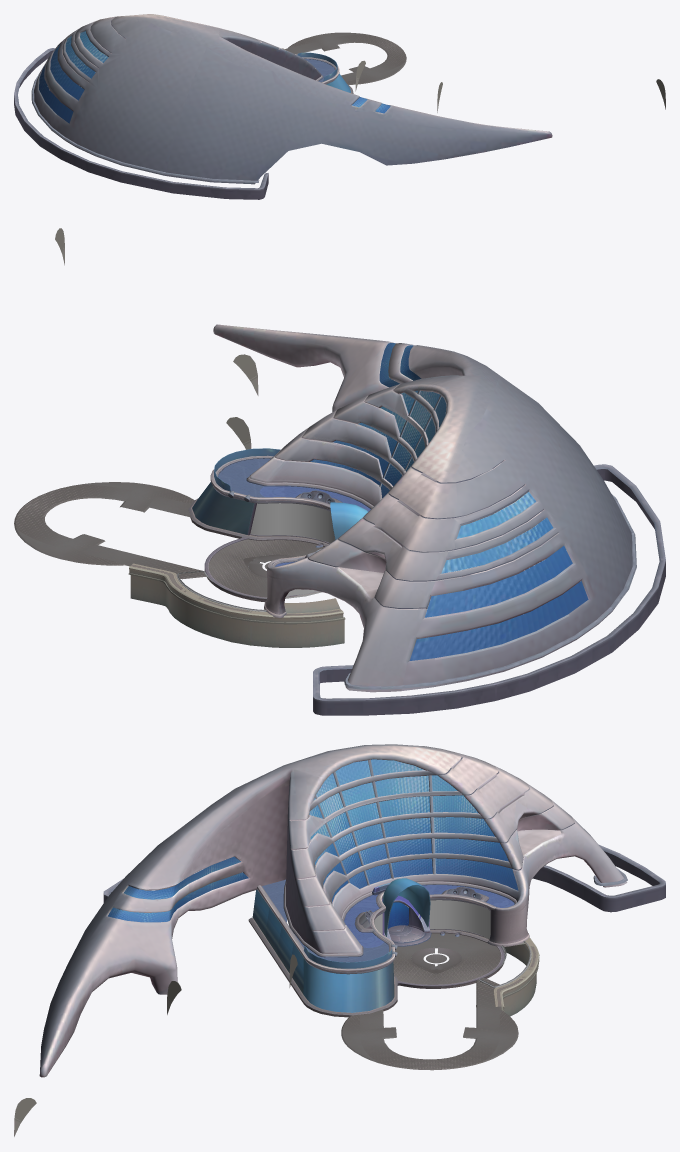
Rendered from pref_sm_beach_bk_pointmol_rightbuild01_lv0.fbx.
3 renders of one model, top to bottom at view 1: azimuth 30°, elevation 25°; view 2: azimuth 150°, elevation 25°; view 3: azimuth 270°, elevation 25°, orthographic. The views are drawn at different scales.
Visible parts, largest first — view 1: sm_beach_bk_pointmol_rightbuild01a_lv0, sm_beach_bk_pointmol_rightbuild01d_lv0, sm_beach_bk_pointmol_rightbuild01b_lv0; view 2: sm_beach_bk_pointmol_rightbuild01a_lv0, sm_beach_bk_pointmol_rightbuild01b_lv0, sm_beach_bk_pointmol_rightbuild01d_lv0, sm_beach_bk_pointmol_rightbuild01h_lv0, sm_beach_bk_pointmol_rightbuild01g_lv0, sm_beach_bk_pointmol_rightbuild01c_lv0; view 3: sm_beach_bk_pointmol_rightbuild01a_lv0, sm_beach_bk_pointmol_rightbuild01b_lv0, sm_beach_bk_pointmol_rightbuild01d_lv0, sm_beach_bk_pointmol_rightbuild01c_lv0, sm_beach_bk_pointmol_rightbuild01h_lv0, sm_beach_bk_pointmol_rightbuild01g_lv0, sm_beach_bk_pointmol_rightbuild01e_lv0.
Part boxes in pixels (x1=…): sm_beach_bk_pointmol_rightbuild01a_lv0: x1=14, y1=14, x2=552, y2=199; sm_beach_bk_pointmol_rightbuild01d_lv0: x1=285, y1=32, x2=665, y2=112; sm_beach_bk_pointmol_rightbuild01b_lv0: x1=39, y1=31, x2=390, y2=123; sm_beach_bk_pointmol_rightbuild01a_lv0: x1=188, y1=324, x2=665, y2=715; sm_beach_bk_pointmol_rightbuild01b_lv0: x1=214, y1=343, x2=588, y2=660; sm_beach_bk_pointmol_rightbuild01d_lv0: x1=14, y1=228, x2=324, y2=597; sm_beach_bk_pointmol_rightbuild01h_lv0: x1=128, y1=563, x2=345, y2=647; sm_beach_bk_pointmol_rightbuild01g_lv0: x1=250, y1=503, x2=335, y2=598; sm_beach_bk_pointmol_rightbuild01c_lv0: x1=192, y1=482, x2=254, y2=534; sm_beach_bk_pointmol_rightbuild01a_lv0: x1=39, y1=744, x2=665, y2=1077; sm_beach_bk_pointmol_rightbuild01b_lv0: x1=108, y1=759, x2=518, y2=968; sm_beach_bk_pointmol_rightbuild01d_lv0: x1=14, y1=933, x2=518, y2=1136; sm_beach_bk_pointmol_rightbuild01c_lv0: x1=252, y1=890, x2=394, y2=1012; sm_beach_bk_pointmol_rightbuild01h_lv0: x1=479, y1=937, x2=539, y2=1016; sm_beach_bk_pointmol_rightbuild01g_lv0: x1=374, y1=900, x2=490, y2=938; sm_beach_bk_pointmol_rightbuild01e_lv0: x1=411, y1=947, x2=461, y2=969.
Size of the model in its own units: 79.53 by 19.26 by 64.81.
